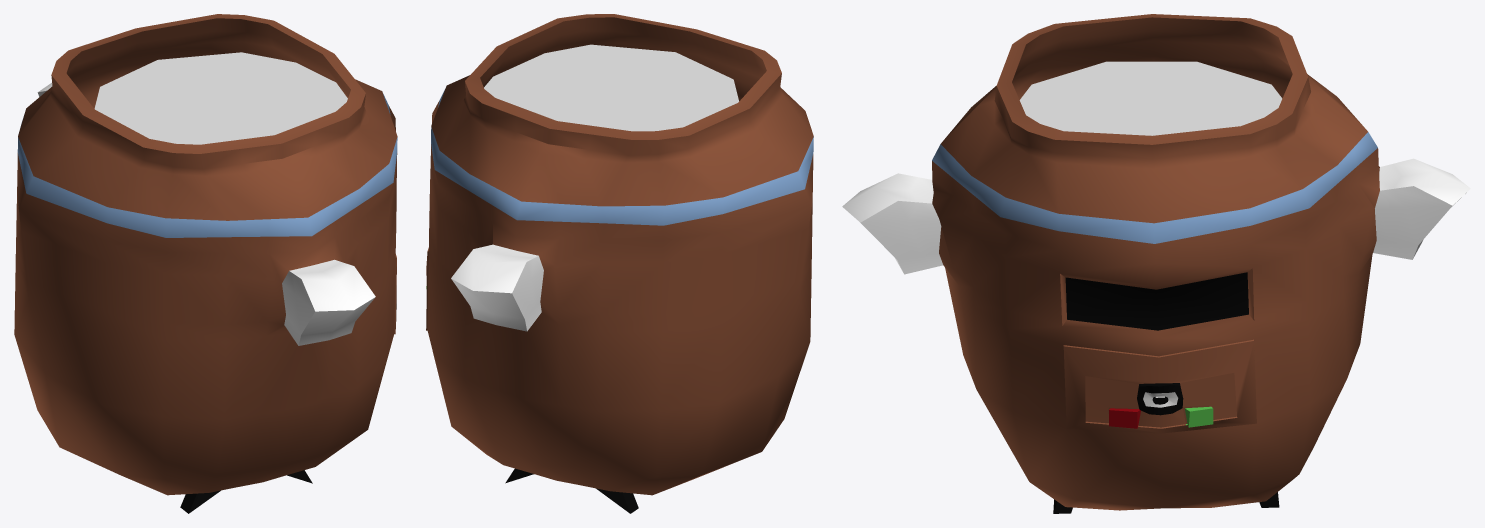
The model's file is Rice Cooker with Rice fbx.fbx.
3 views of the same model, side by side, from view 1: azimuth 30°, elevation 25°; view 2: azimuth 150°, elevation 25°; view 3: azimuth 270°, elevation 25° (orthographic). The views are drawn at different scales.
Visible parts, largest first — view 1: Rice cooker Body Lined, Circle; view 2: Rice cooker Body Lined, Circle; view 3: Rice cooker Body Lined, Circle, Buttons on and off.
Part boxes in pixels (<box>): Rice cooker Body Lined: <box>14,14,397,513</box>; Circle: <box>94,52,347,144</box>; Rice cooker Body Lined: <box>426,14,813,513</box>; Circle: <box>484,44,738,131</box>; Rice cooker Body Lined: <box>842,14,1470,513</box>; Circle: <box>1019,61,1282,135</box>; Buttons on and off: <box>1109,406,1213,428</box>.
Bounding box in the file's own units: 919 × 899 × 1246.
